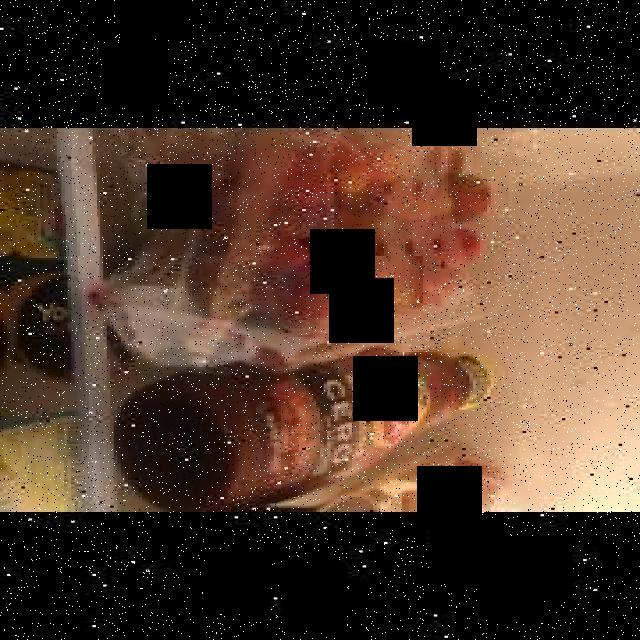yogurt: (0, 145, 100, 256), (368, 256, 418, 303)
